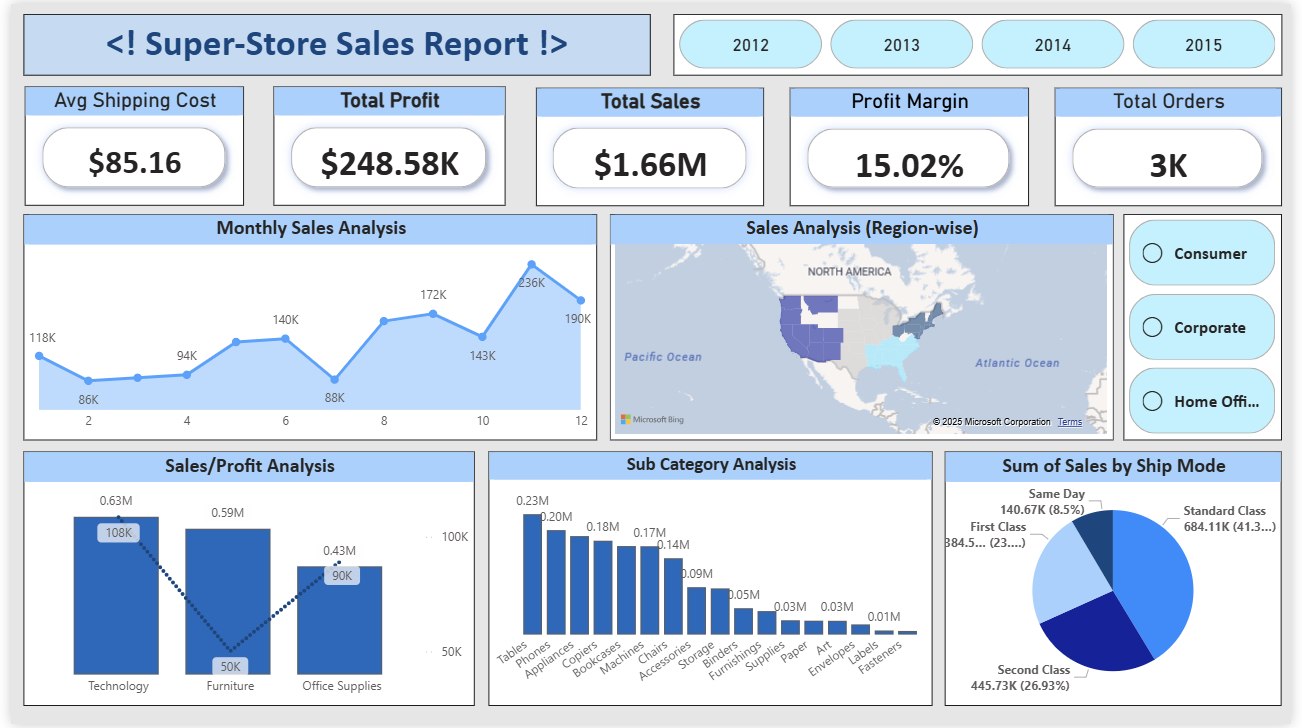

The page's visual inventory and layout, read from the dashboard file:
{"tool":"powerbi","page":{"name":"Page 1","canvas":[1280,720],"ordinal":0},"visuals":[{"type":"areaChart","title":"Monthly Sales Analysis","fields":{"Category":["Date_dim.Month"],"Y":["Sum(Orders.Sales)"]},"box":[12.5,210,573.8,226.2],"z":0},{"type":"pieChart","fields":{"Y":["Sum(Orders.Sales)"],"Category":["Shipping_dim.Ship Mode"]},"box":[934.3,447.1,337.1,254.3],"z":1000},{"type":"lineStackedColumnComboChart","title":"Sales/Profit Analysis","fields":{"Category":["Orders.Category"],"Y":["Sum(Orders.Sales)"],"Y2":["Sum(Orders.Profit)"]},"box":[12.9,447.1,451.4,254.3],"z":2000},{"type":"clusteredColumnChart","title":"Sub Category Analysis","fields":{"Y":["Sum(Orders.Sales)"],"Category":["Orders.SubCategory"]},"box":[477.1,447.1,444.3,254.3],"z":3000},{"type":"filledMap","title":"Sales Analysis (Region-wise)","fields":{"Category":["Orders.State","Orders.Country"],"Series":["Orders.Region"]},"box":[599.2,210.3,503.8,226.2],"z":4000},{"type":"cardVisual","title":"Total Profit","fields":{"Data":["Sum(Orders.Profit)"]},"box":[263,82,231.6,119.4],"z":5000},{"type":"cardVisual","title":"Total Sales","fields":{"Data":["Sum(Orders.Sales)"]},"box":[524.8,83.2,228,118.2],"z":6000},{"type":"cardVisual","title":"Total Orders","fields":{"Data":["Orders.Total orders"]},"box":[1043.6,83.2,226.8,118.2],"z":7000},{"type":"advancedSlicerVisual","fields":{"Values":["Date_dim.Year"]},"box":[662.9,10,608.6,61.4],"z":8000},{"type":"cardVisual","title":"Avg Shipping Cost","fields":{"Data":["Avg(Orders.Shipping Cost)"]},"box":[13.3,82,219.6,119.4],"z":9000},{"type":"advancedSlicerVisual","fields":{"Values":["Orders.Segment"]},"box":[1112.5,210,158.8,226.2],"z":10000},{"type":"cardVisual","title":"Profit Margin","fields":{"Data":["Orders.Profit Margin"]},"box":[778.2,83.2,238.9,118.2],"z":11000},{"type":"textbox","box":[12.5,10,627.5,61.2],"z":12000}]}

Visuals, with their boxes in screenshot pixels (x1, y1, x2, y2), scaled from the page's 1280x720 canvas onto the 1302x728 screenshot:
"Monthly Sales Analysis" areaChart: [left=13, top=212, right=596, bottom=441]
pieChart - Sum(Orders.Sales) x Shipping_dim.Ship Mode: [left=950, top=452, right=1293, bottom=709]
"Sales/Profit Analysis" lineStackedColumnComboChart: [left=13, top=452, right=472, bottom=709]
"Sub Category Analysis" clusteredColumnChart: [left=485, top=452, right=937, bottom=709]
"Sales Analysis (Region-wise)" filledMap: [left=609, top=213, right=1122, bottom=441]
"Total Profit" cardVisual: [left=268, top=83, right=503, bottom=204]
"Total Sales" cardVisual: [left=534, top=84, right=766, bottom=204]
"Total Orders" cardVisual: [left=1062, top=84, right=1292, bottom=204]
advancedSlicerVisual - Date_dim.Year: [left=674, top=10, right=1293, bottom=72]
"Avg Shipping Cost" cardVisual: [left=14, top=83, right=237, bottom=204]
advancedSlicerVisual - Orders.Segment: [left=1132, top=212, right=1293, bottom=441]
"Profit Margin" cardVisual: [left=792, top=84, right=1035, bottom=204]
textbox: [left=13, top=10, right=651, bottom=72]
